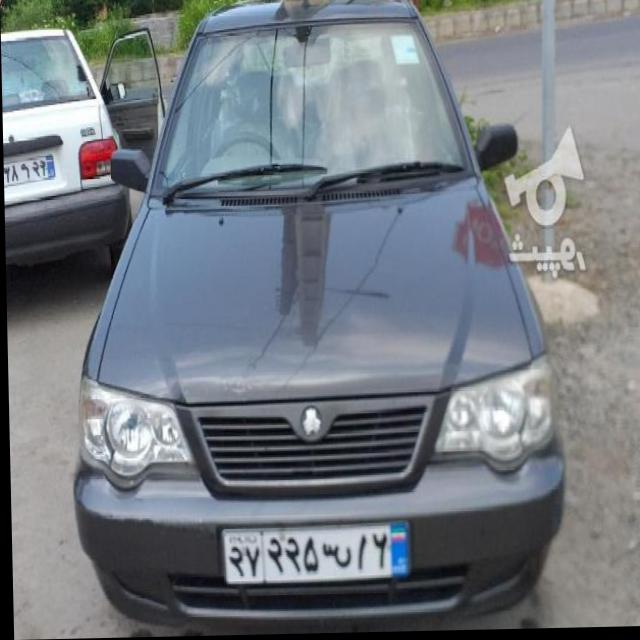licence: (219, 518, 410, 584), (4, 148, 56, 185)
